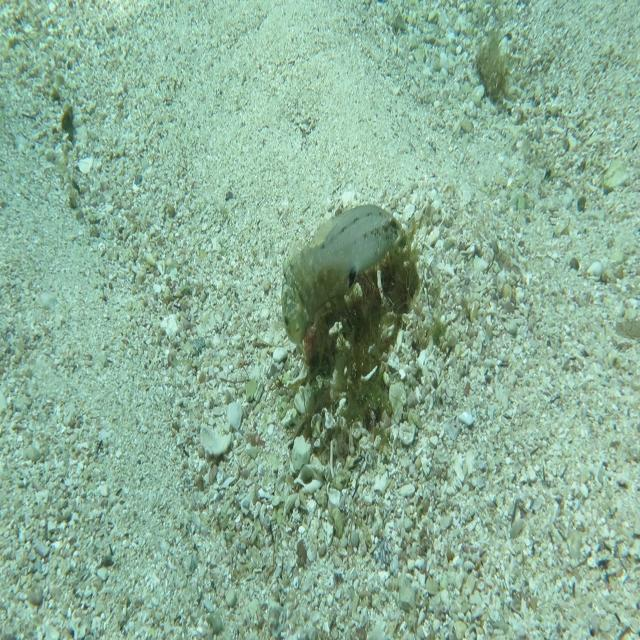DAN_CIRC: (280, 258, 353, 346)
core_nest: (365, 251, 410, 298)
female: (288, 201, 404, 284)
nest: (283, 176, 434, 450)
